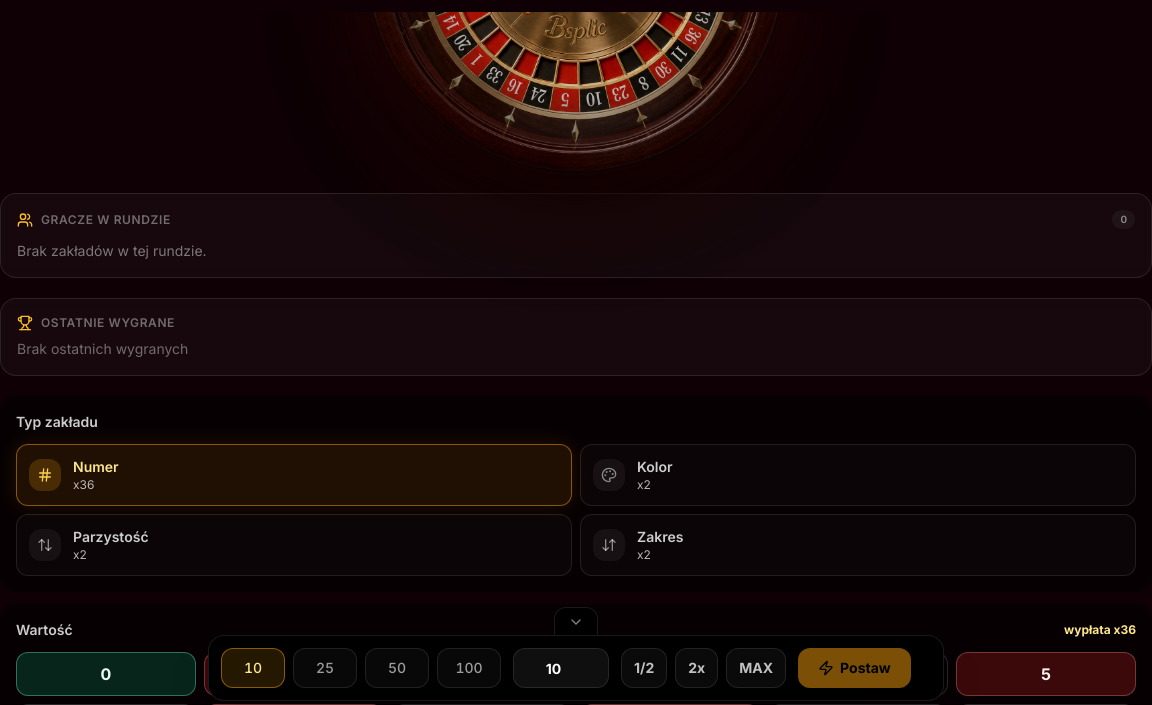
Test case: RouletteGame › lets the player choose a quick stake before placing a bet
(page scrolled)
Click the button "50" at [397, 668], box [365,648,429,688]
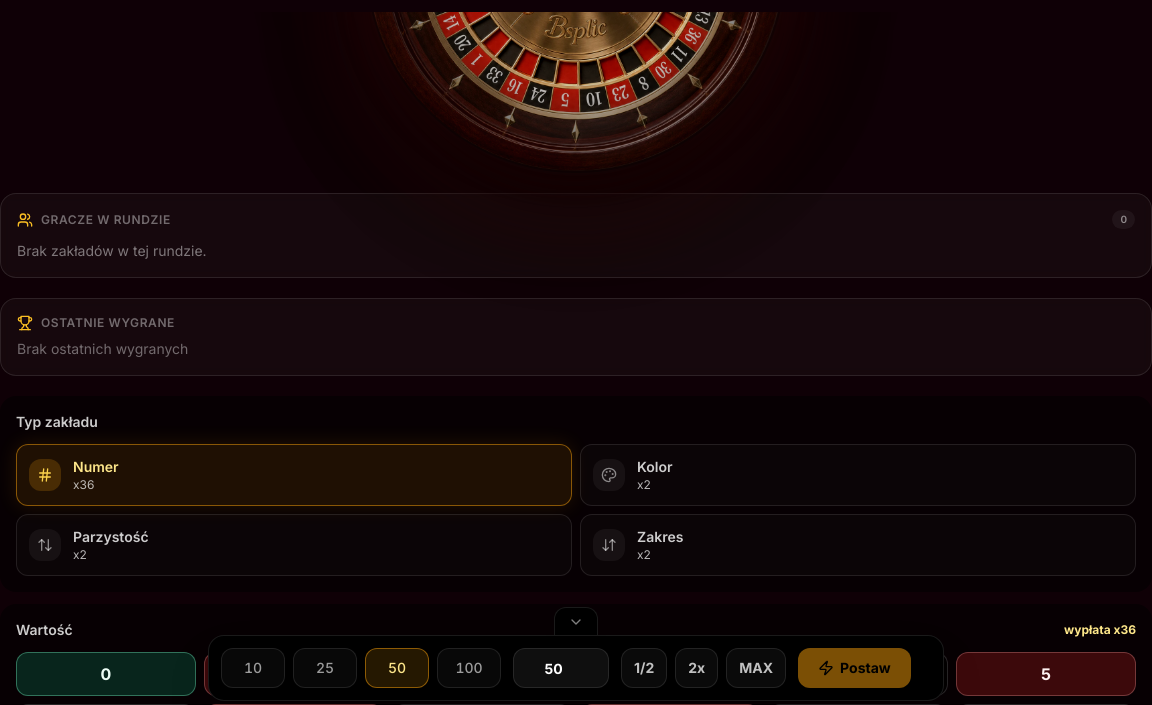
Expected: the number field holds "50", [513,648,609,688]
